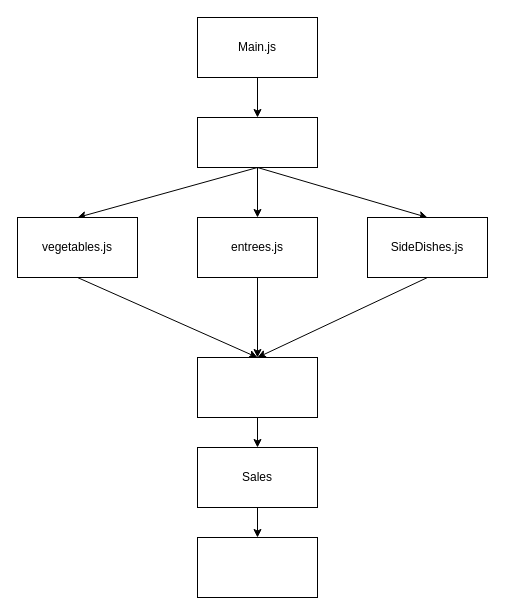
Image size: 505x615. Some labels were removed from this diagram. The shapes that lost their labels are listed below. From the top down, each one's centre as x and y in pixels, then its label:
the point at 257,142: FoodTruck
the point at 257,387: TransientState
the point at 257,567: API
